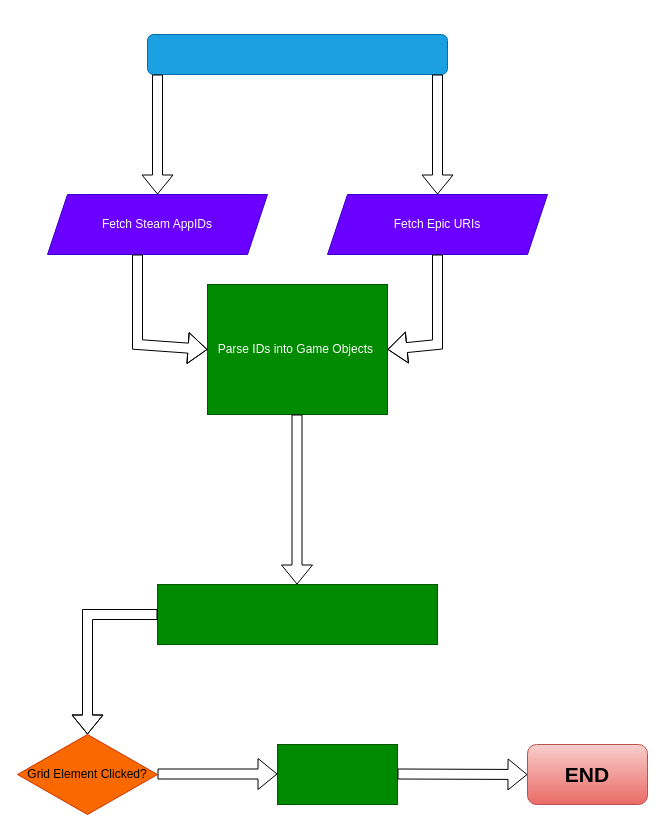
Some shapes in this 665 by 832 pixel diagram are drawn without their labels. Here are the shapes that lost their labels. From the top down, the box of each, then its label:
(146, 34, 448, 74): App Startup
(156, 584, 438, 644): Render Grid of Installations
(276, 744, 398, 804): Launch Title
